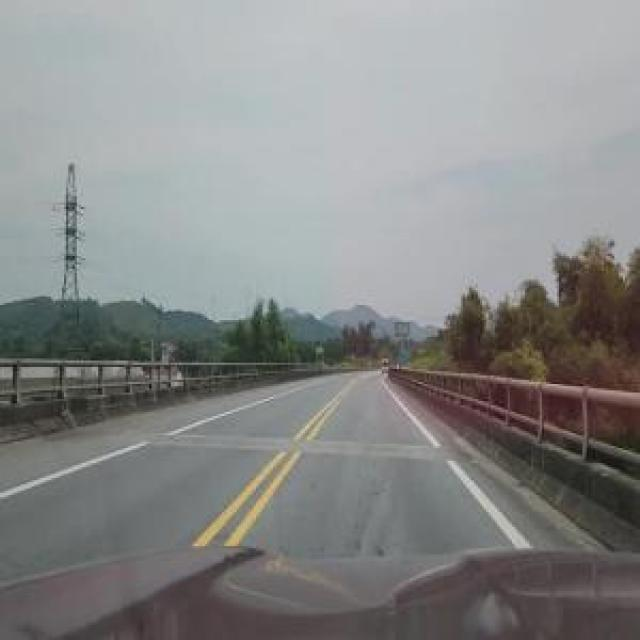clear-road: (0, 371, 602, 586)
